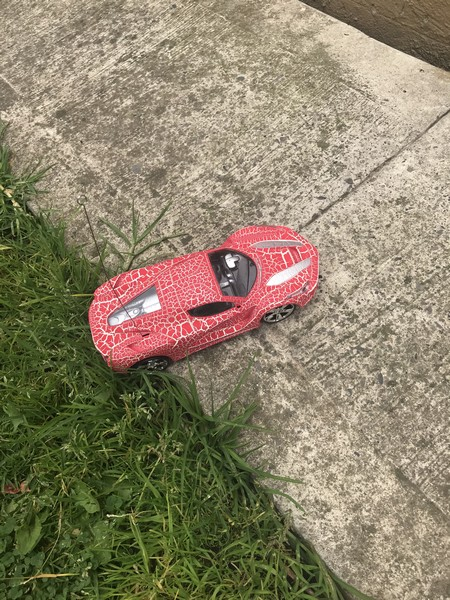RC: (84, 223, 319, 376)
